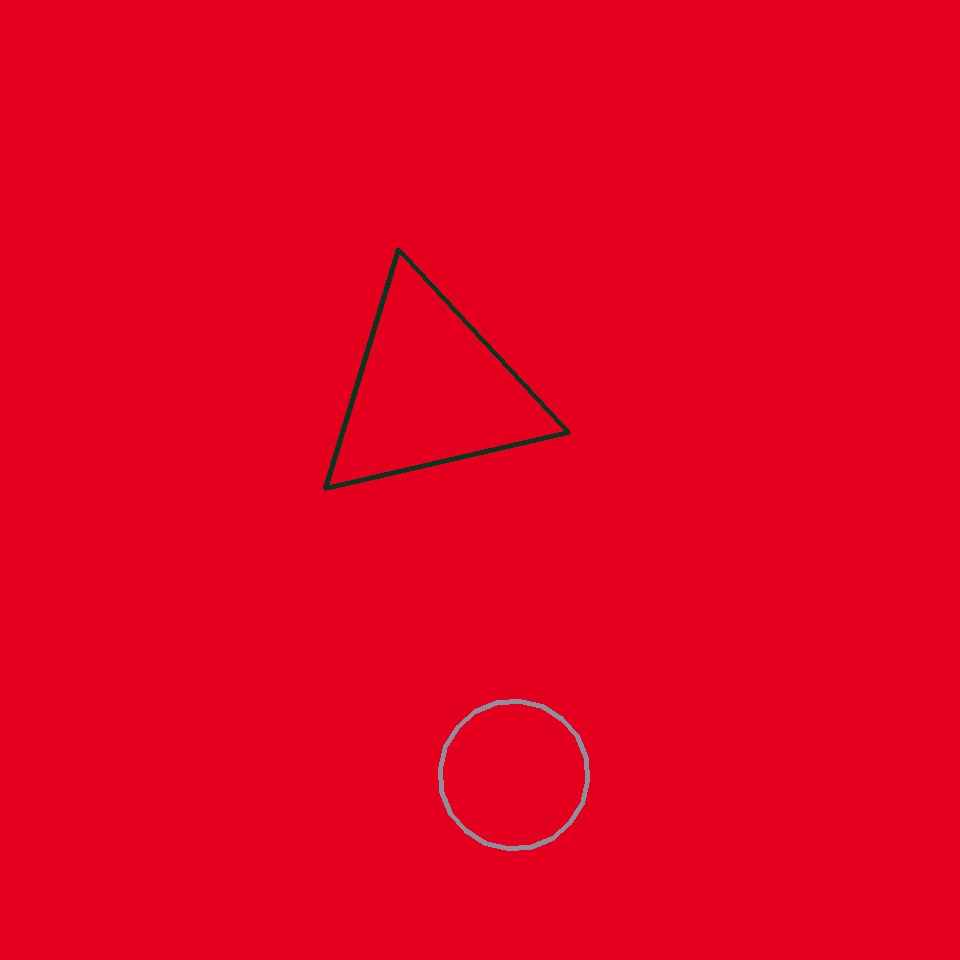circle: (310, 270, 552, 510)
triangle: (440, 702, 588, 848)
